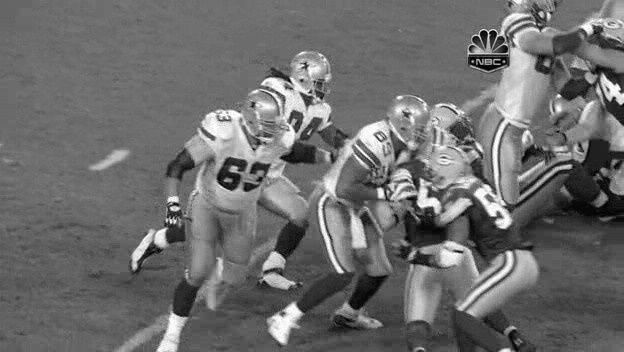person: (299, 50, 334, 97), (298, 50, 333, 97), (300, 50, 335, 97), (299, 49, 334, 96), (299, 51, 334, 98)
target_negative: (198, 213, 423, 300), (137, 52, 622, 83), (288, 306, 493, 340), (359, 267, 386, 328), (607, 214, 624, 228), (621, 216, 623, 251)
